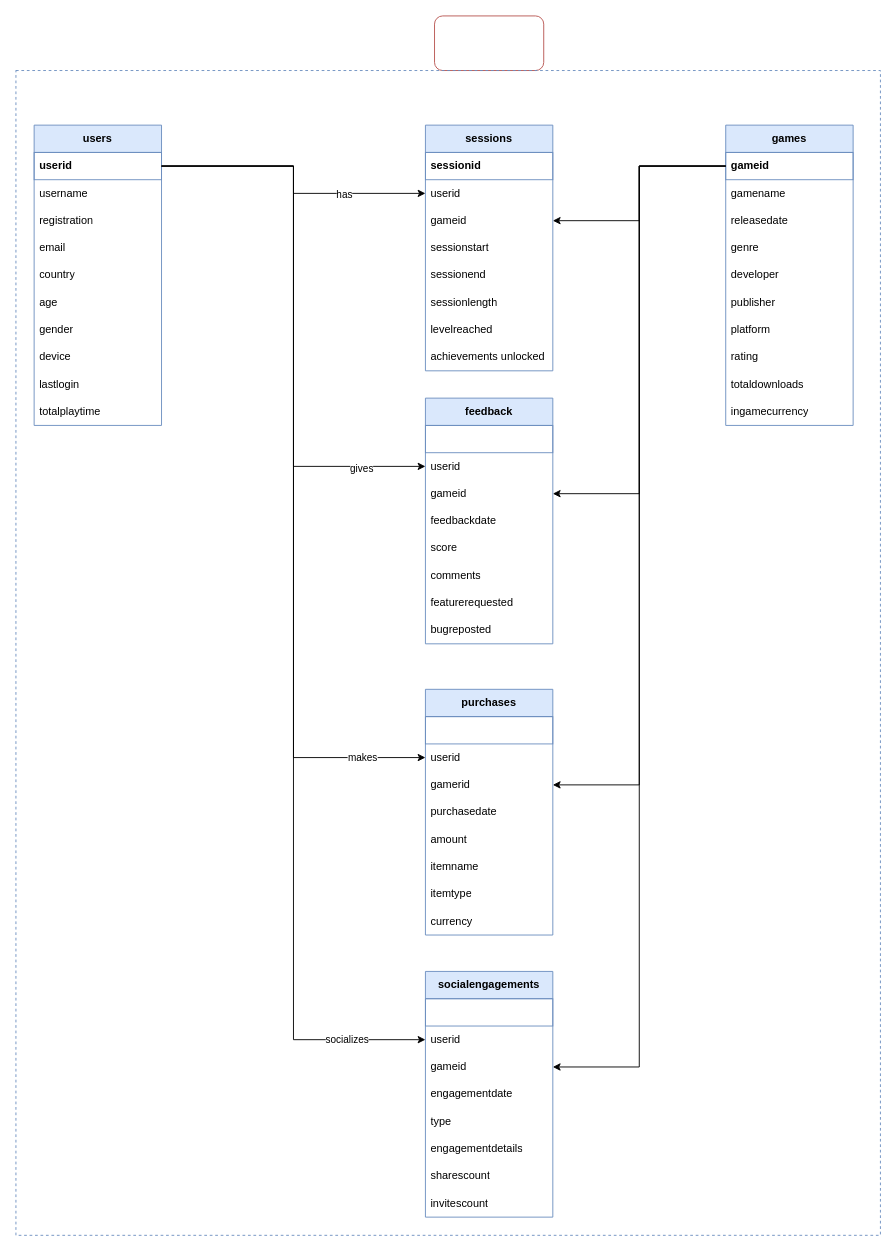
The diagram is 896 pixels wide and 1251 high, and some of its shapes have lost their labels. The centre of each missing label's shape, as x and y in pixels:
"engagementid" goes at (489,1012).
"feedbackid" goes at (489,439).
"GamerInsights" goes at (489,43).
"purchaseid" goes at (489,730).
